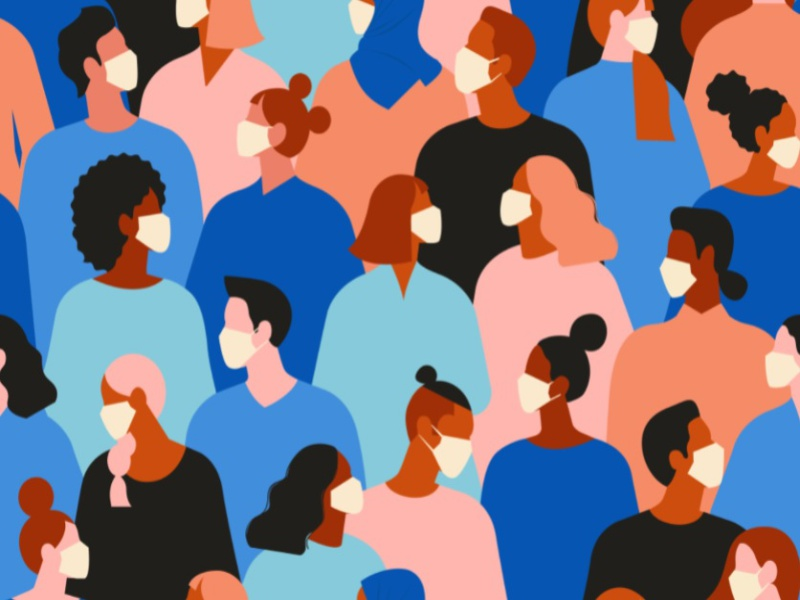ManaoArotava: (64, 16, 161, 120), (101, 164, 191, 270), (404, 374, 484, 492), (204, 276, 282, 385), (365, 175, 458, 266), (82, 365, 167, 459), (676, 399, 741, 515), (733, 74, 800, 178), (648, 214, 713, 317), (310, 444, 375, 532), (227, 89, 297, 170)
